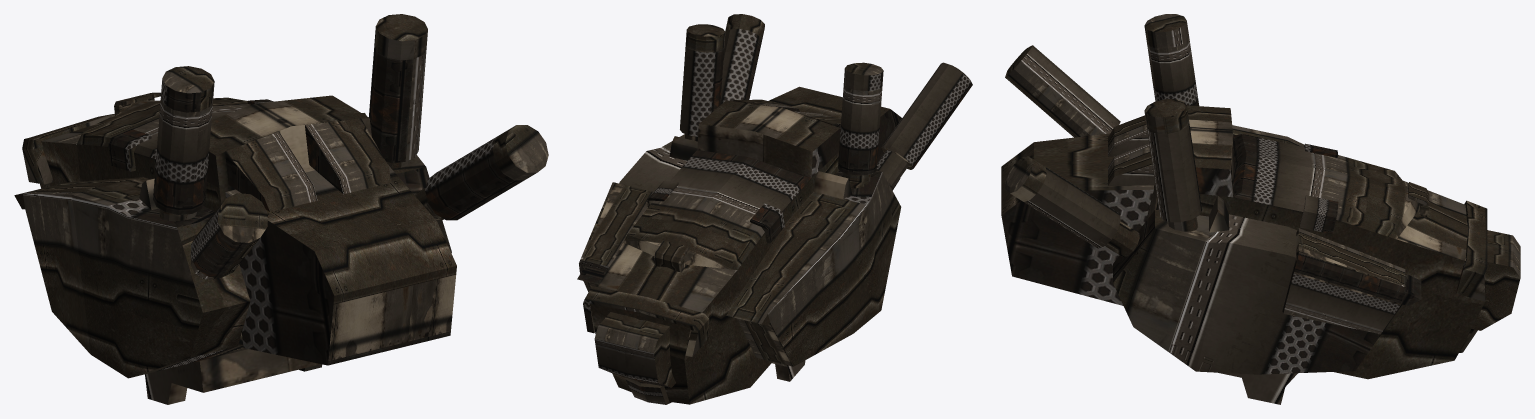
Rendered from Mecha_Head.glb.
3 views of the same model, side by side, from view 1: azimuth 30°, elevation 25°; view 2: azimuth 150°, elevation 25°; view 3: azimuth 270°, elevation 25° (orthographic). The views are drawn at different scales.
Parts seen in each view (by area): view 1: Mecha_Head; view 2: Mecha_Head; view 3: Mecha_Head.
Boxes of the visible parts, bbox=[...] form: Mecha_Head: bbox=[14, 14, 548, 404]; Mecha_Head: bbox=[577, 14, 972, 404]; Mecha_Head: bbox=[1001, 14, 1520, 404].
Size of the model in its own units: 4.58 by 5.1 by 7.68.
Materials: 1 (1 with a texture image).
